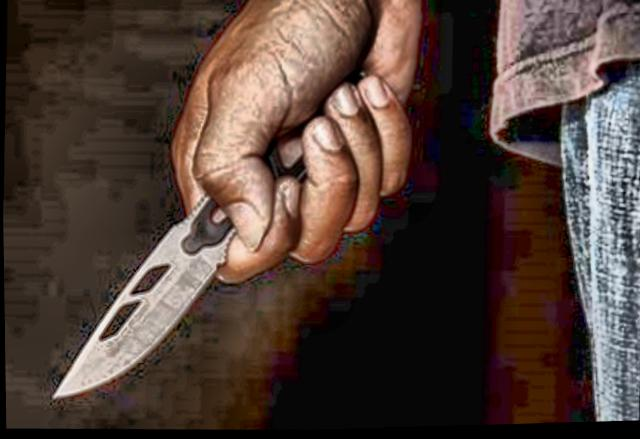knife: (39, 52, 390, 414)
